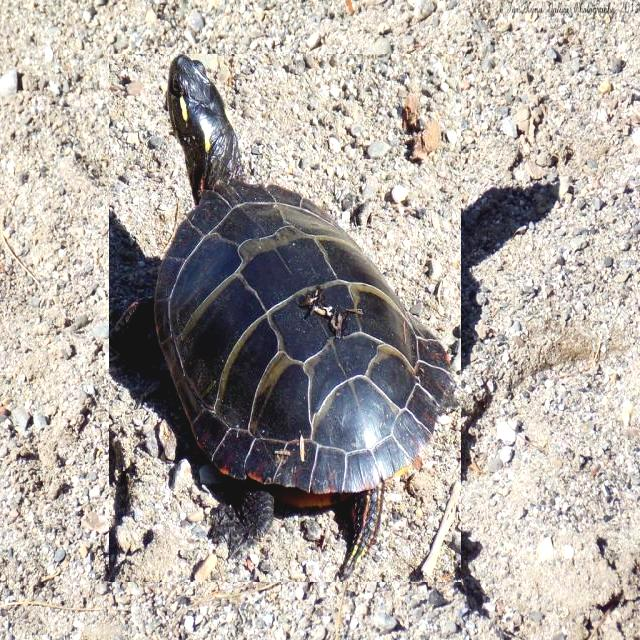Sea turtle: (109, 54, 461, 582)
